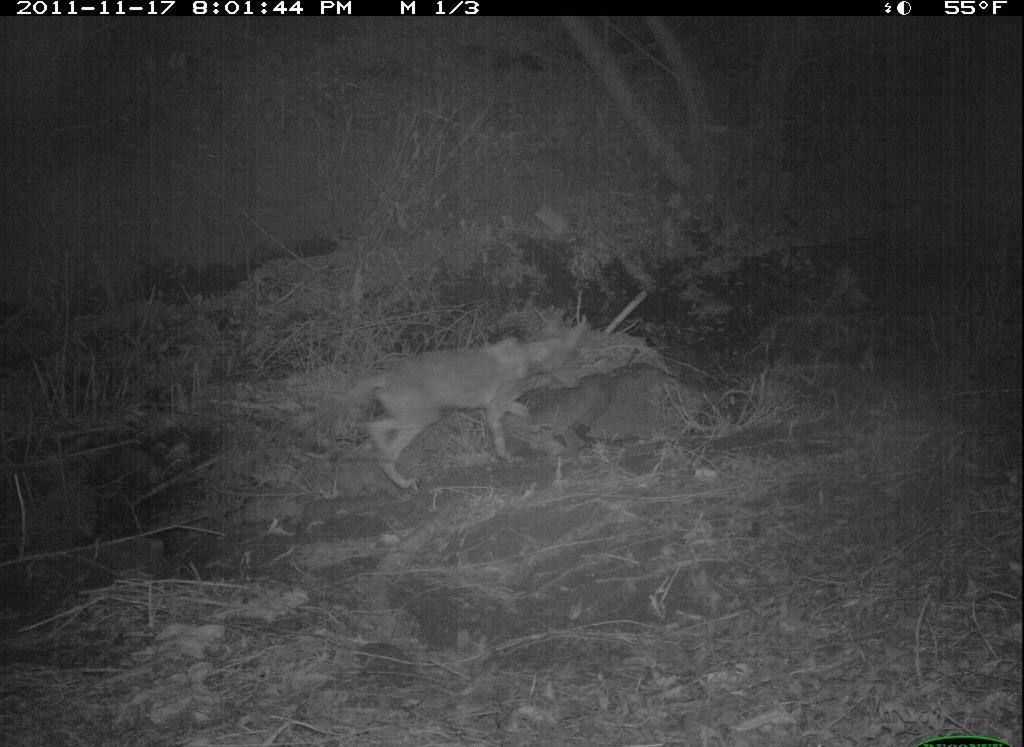coyote: (332, 313, 592, 501)
